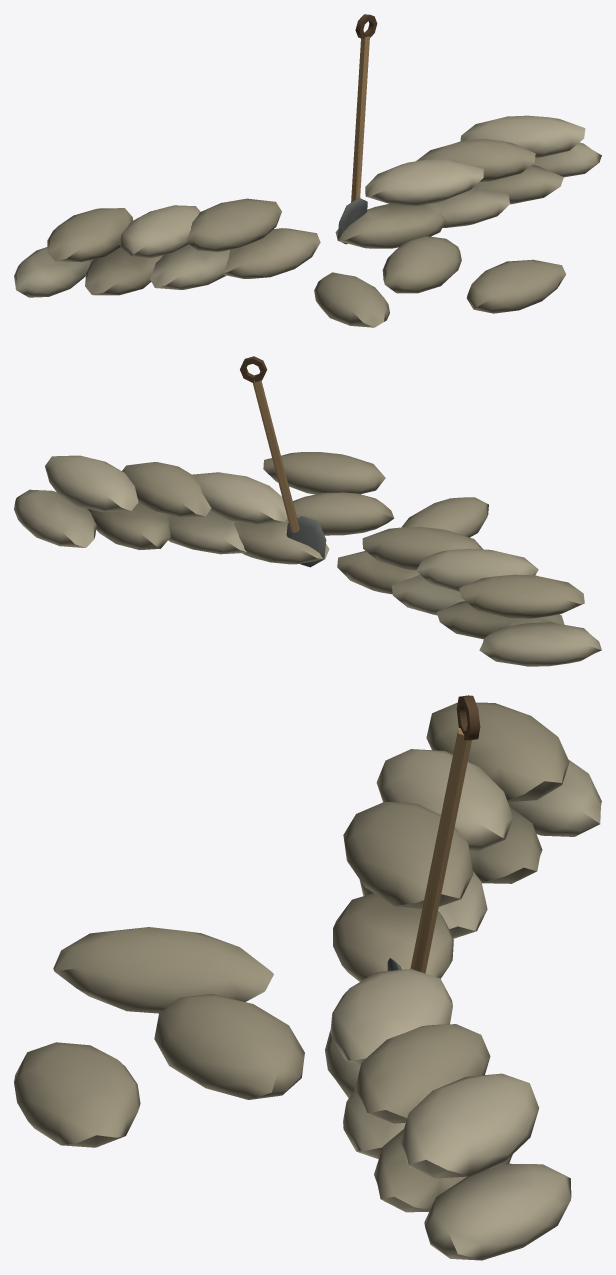
Rendered from sandbag_berm_b.glb.
3 views of the same model, one above another, from view 1: azimuth 30°, elevation 25°; view 2: azimuth 150°, elevation 25°; view 3: azimuth 270°, elevation 25° (orthographic). The views are drawn at different scales.
Parts seen in each view (by area): view 1: Surface; view 2: Surface; view 3: Surface.
Boxes of the visible parts, left/top/right/bottom form: Surface: left=14, top=14, right=601, bottom=327; Surface: left=14, top=356, right=601, bottom=666; Surface: left=14, top=695, right=601, bottom=1260.
Size of the model in its own units: 3.57 by 1.3 by 1.74.
